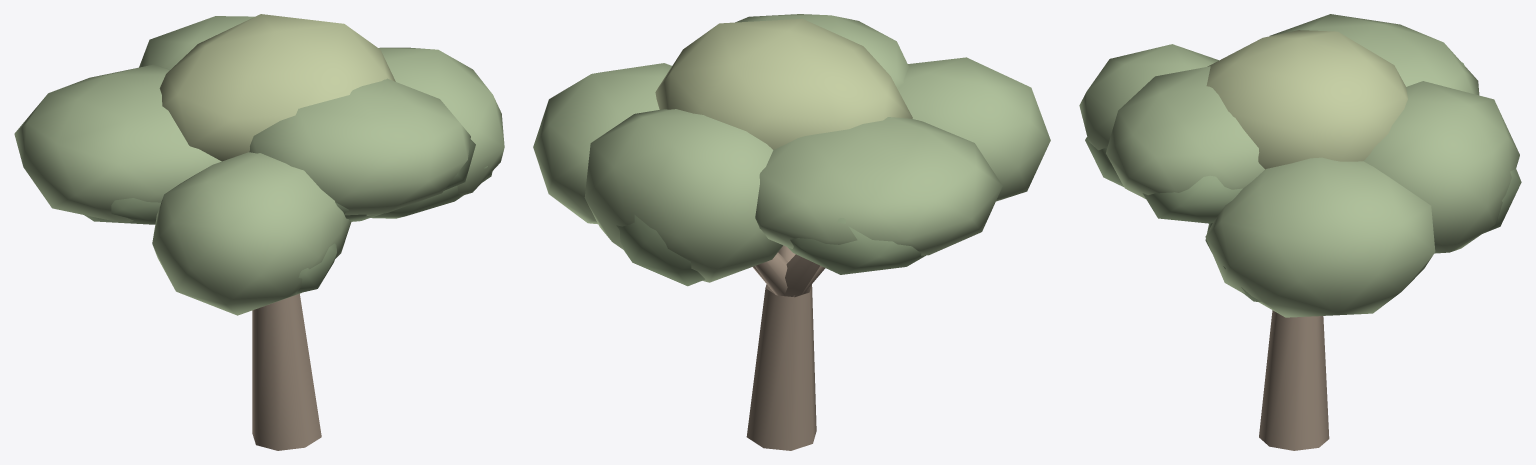
File: tree_ombu_7.glb
3 renders of one model, left to right at view 1: azimuth 30°, elevation 25°; view 2: azimuth 150°, elevation 25°; view 3: azimuth 270°, elevation 25°, orthographic. The views are drawn at different scales.
Visible parts, largest first — view 1: tree_ombu_7.glb; view 2: tree_ombu_7.glb; view 3: tree_ombu_7.glb.
Boxes of the visible parts, x1=… form: tree_ombu_7.glb: x1=14, y1=14, x2=504, y2=450; tree_ombu_7.glb: x1=533, y1=14, x2=1050, y2=450; tree_ombu_7.glb: x1=1079, y1=14, x2=1521, y2=450.
Size of the model in its own units: 6.83 by 5.97 by 6.03.
